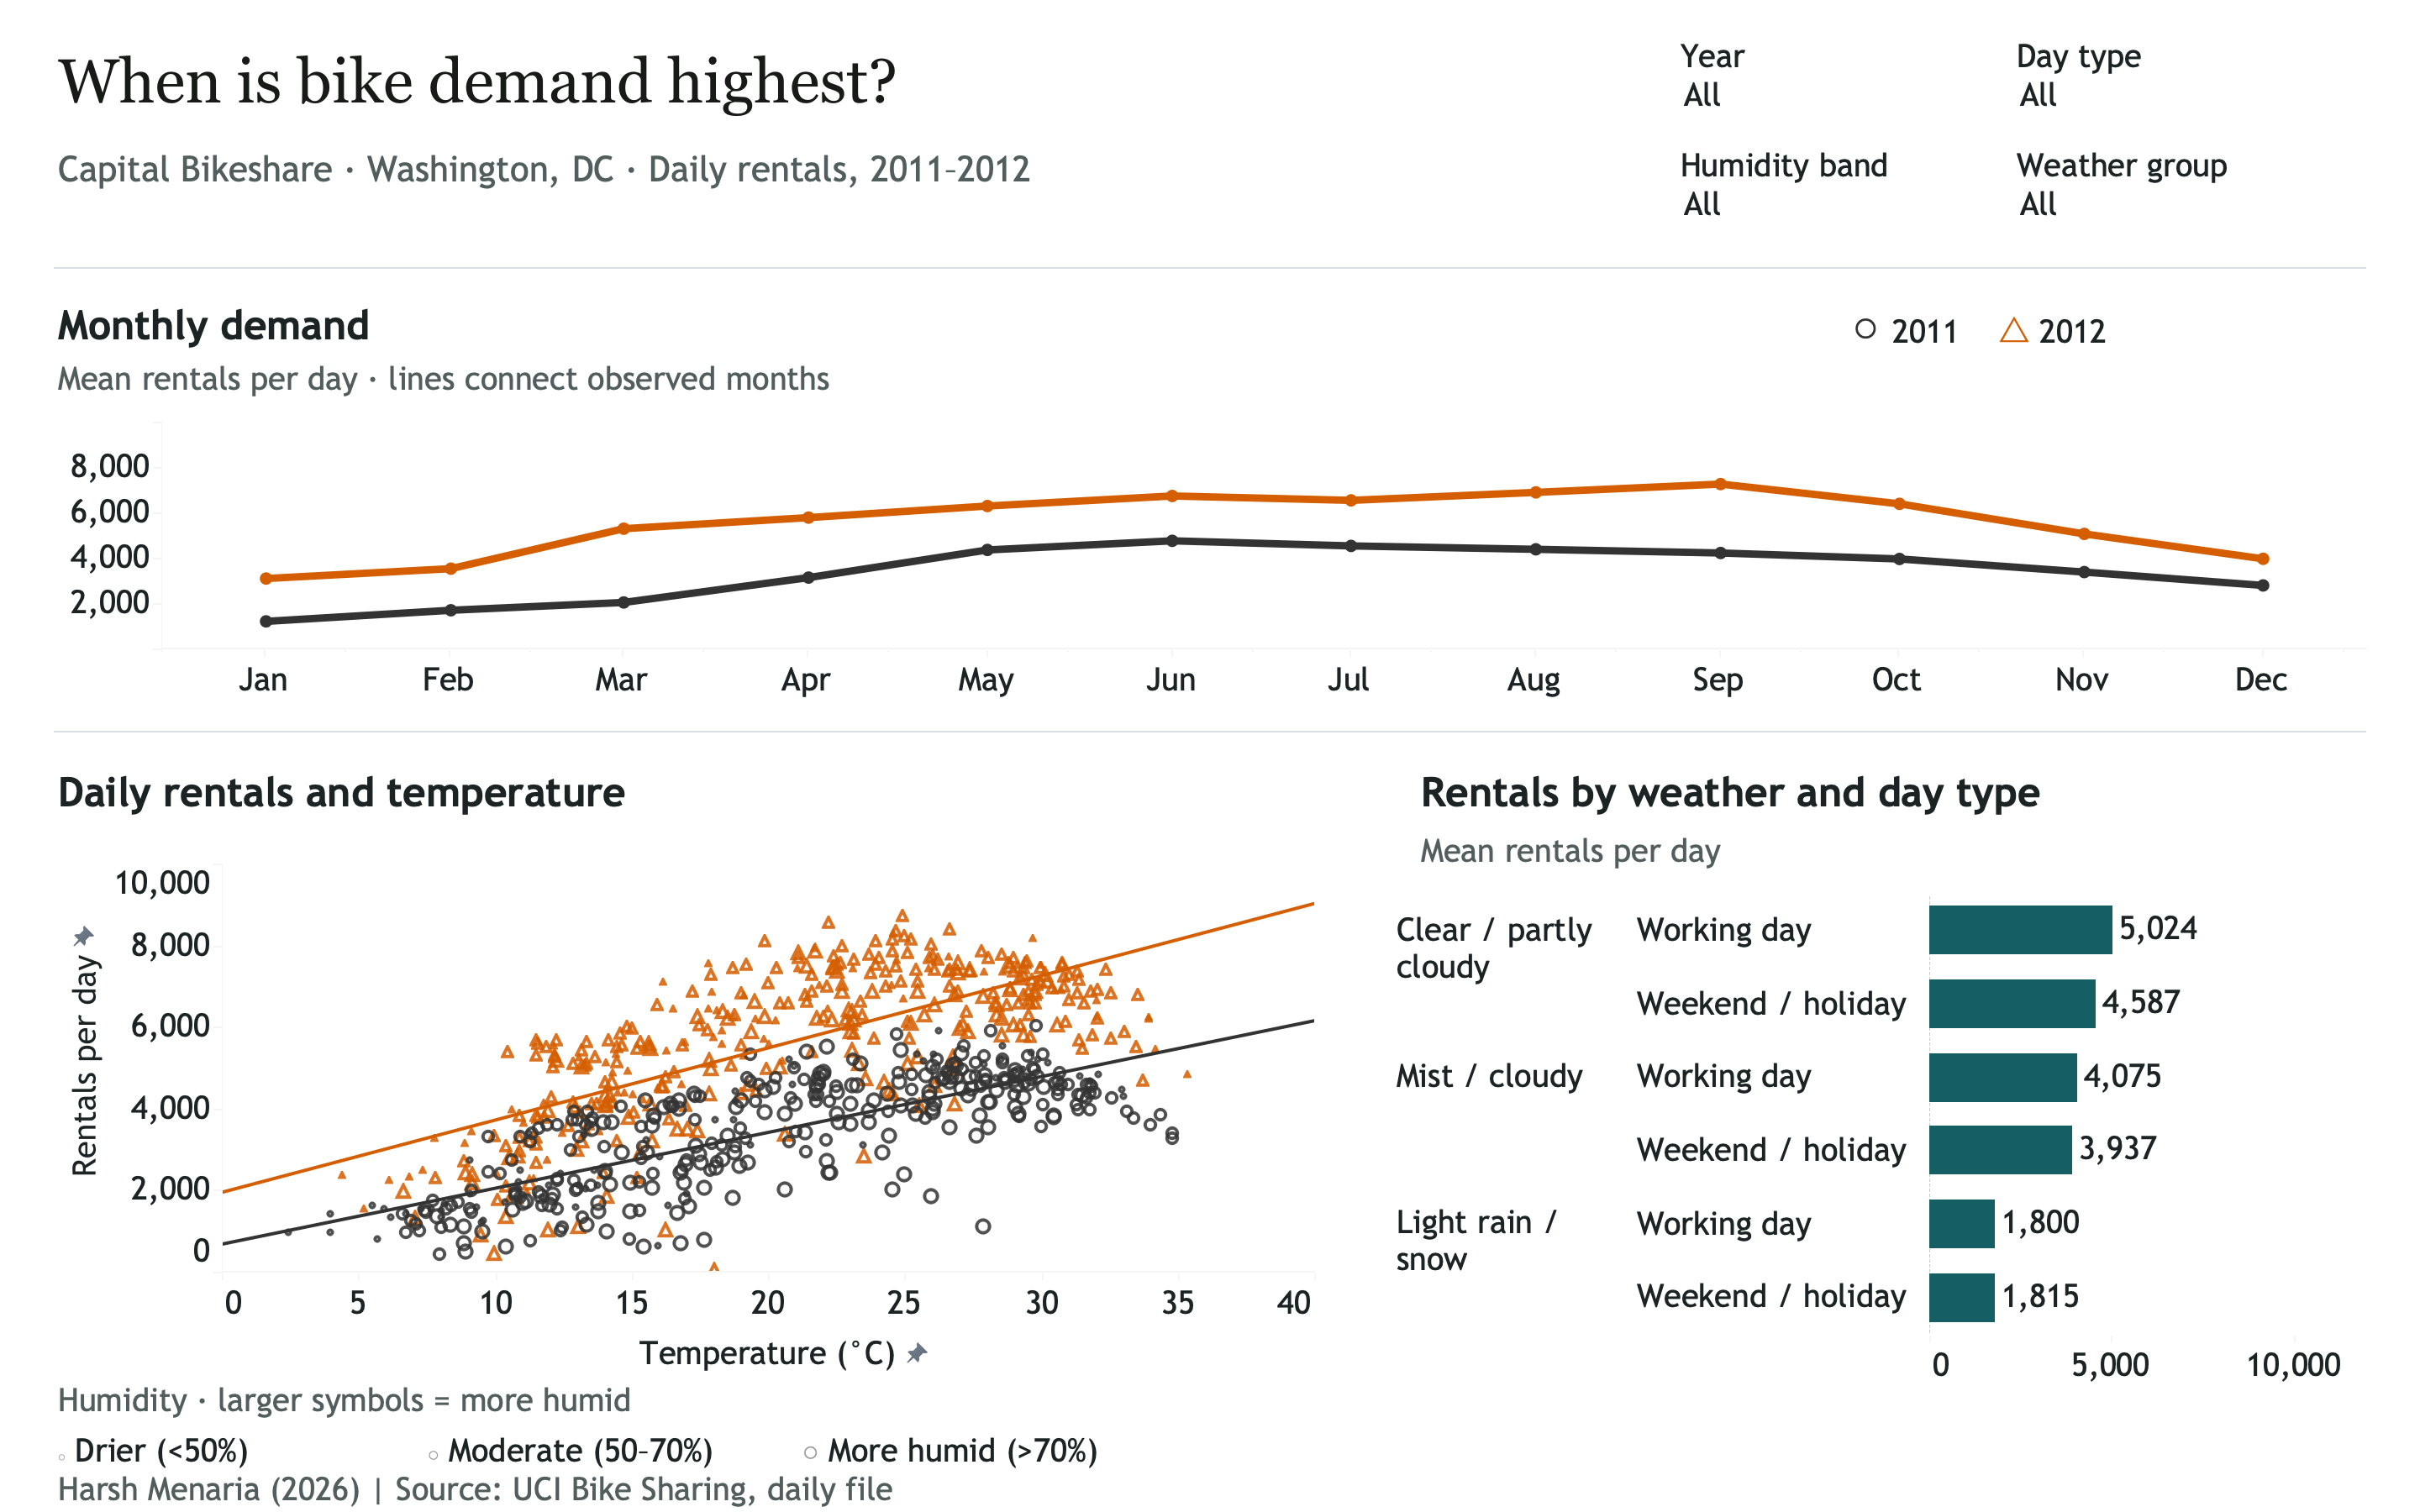

The page's visual inventory and layout, read from the dashboard file:
{"tool":"tableau","page":{"name":"Bike demand | Prototype","canvas":[1440,900],"ordinal":0},"visuals":[{"type":"blank","box":[0,0,1440,900]},{"type":"filter","title":"01 Monthly demand","param":"[federated.bike_demand].[none:Year:nk]","box":[1000,21,180,54]},{"type":"filter","title":"01 Monthly demand","param":"[federated.bike_demand].[none:DayType:nk]","box":[1200,21,208,54]},{"type":"text","box":[32,23,925,52]},{"type":"text","box":[32,86,925,30]},{"type":"filter","title":"02 Temperature and rentals","param":"[federated.bike_demand].[none:Calculation_1907443823489024:nk]","box":[1000,86,180,54]},{"type":"filter","title":"01 Monthly demand","param":"[federated.bike_demand].[none:Weather:nk]","box":[1200,86,208,54]},{"type":"blank","box":[32,159,1376,1]},{"type":"text","box":[1100,178,308,34]},{"type":"text","box":[32,179,1376,29]},{"type":"text","box":[32,214,1376,24]},{"type":"worksheet","title":"01 Monthly demand","mark":"Line","rows":["DailyRentals"],"cols":["Calculation_1435546893139968"],"box":[32,251,1376,165]},{"type":"blank","box":[32,435,1376,1]},{"type":"text","box":[32,457,750,29]},{"type":"text","box":[843,457,565,29]},{"type":"text","box":[843,492,565,30]},{"type":"worksheet","title":"02 Temperature and rentals","mark":"Shape","rows":["DailyRentals"],"cols":["TemperatureC"],"box":[32,514,750,310]},{"type":"worksheet","title":"03 Weather and day type","mark":"Bar","rows":["Weather","DayType"],"cols":["DailyRentals"],"box":[825,532,583,292]},{"type":"text","box":[32,819,600,30]},{"type":"text","box":[32,846,216,35]},{"type":"text","box":[252,846,223.2,35]},{"type":"text","box":[475.2,846,302.4,35]},{"type":"text","box":[32,875,1376,23]}]}

Visuals, with their boxes in screenshot pixels (x1, y1, x2, y2), scaled from the page's 1440x900 canvas onto the 2420x1512 screenshot:
blank: pyautogui.locateOnScreen(0, 0, 2419, 1511)
"01 Monthly demand" filter: pyautogui.locateOnScreen(1681, 35, 1983, 126)
"01 Monthly demand" filter: pyautogui.locateOnScreen(2017, 35, 2366, 126)
text: pyautogui.locateOnScreen(54, 39, 1608, 126)
text: pyautogui.locateOnScreen(54, 144, 1608, 195)
"02 Temperature and rentals" filter: pyautogui.locateOnScreen(1681, 144, 1983, 235)
"01 Monthly demand" filter: pyautogui.locateOnScreen(2017, 144, 2366, 235)
blank: pyautogui.locateOnScreen(54, 267, 2366, 269)
text: pyautogui.locateOnScreen(1849, 299, 2366, 356)
text: pyautogui.locateOnScreen(54, 301, 2366, 349)
text: pyautogui.locateOnScreen(54, 360, 2366, 400)
"01 Monthly demand" worksheet (Line marks): pyautogui.locateOnScreen(54, 422, 2366, 699)
blank: pyautogui.locateOnScreen(54, 731, 2366, 732)
text: pyautogui.locateOnScreen(54, 768, 1314, 816)
text: pyautogui.locateOnScreen(1417, 768, 2366, 816)
text: pyautogui.locateOnScreen(1417, 827, 2366, 877)
"02 Temperature and rentals" worksheet (Shape marks): pyautogui.locateOnScreen(54, 864, 1314, 1384)
"03 Weather and day type" worksheet (Bar marks): pyautogui.locateOnScreen(1386, 894, 2366, 1384)
text: pyautogui.locateOnScreen(54, 1376, 1062, 1426)
text: pyautogui.locateOnScreen(54, 1421, 417, 1480)
text: pyautogui.locateOnScreen(423, 1421, 798, 1480)
text: pyautogui.locateOnScreen(798, 1421, 1307, 1480)
text: pyautogui.locateOnScreen(54, 1470, 2366, 1509)
